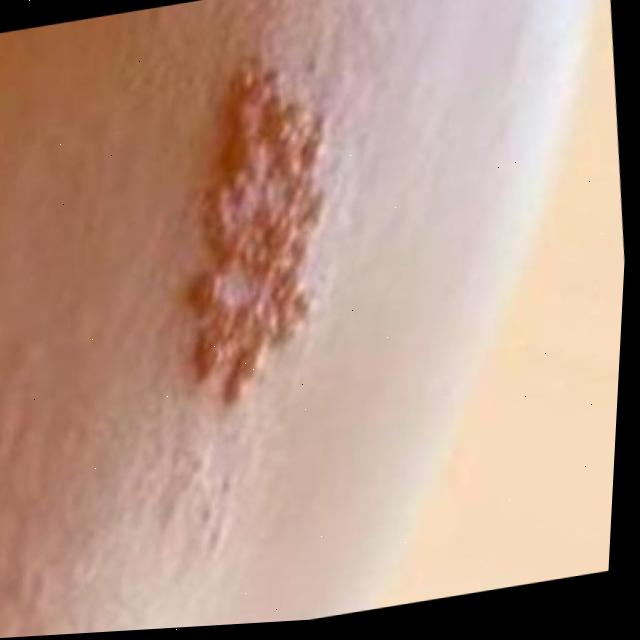Shingles: (152, 51, 360, 406)
